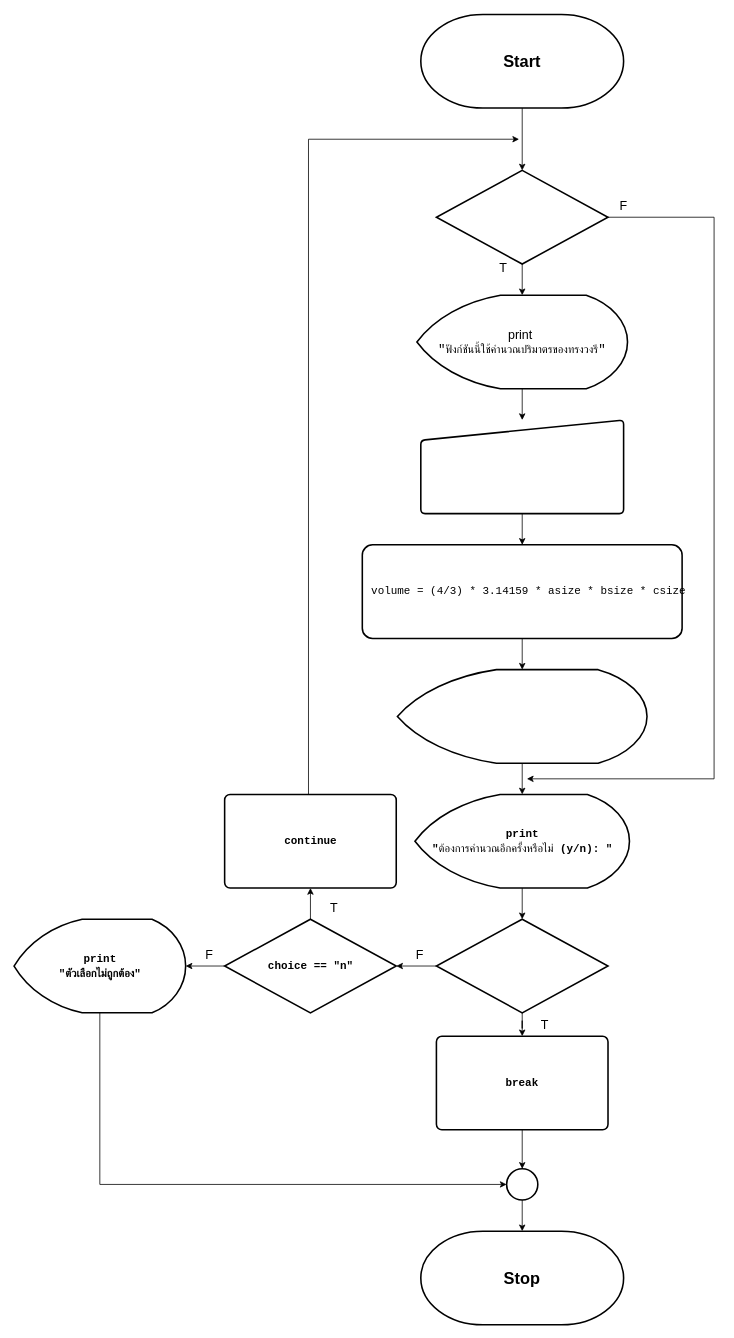
Some shapes in this 734 by 1338 pixel diagram are drawn without their labels. Each missing label, with the centre of its shape:
asize,bsize,csize: (x=522, y=466)
choice == "y": (x=521, y=965)
print " ปริมาตรของทรงวงรี =", volume, "-------------------------": (x=521, y=716)
True: (x=521, y=216)
